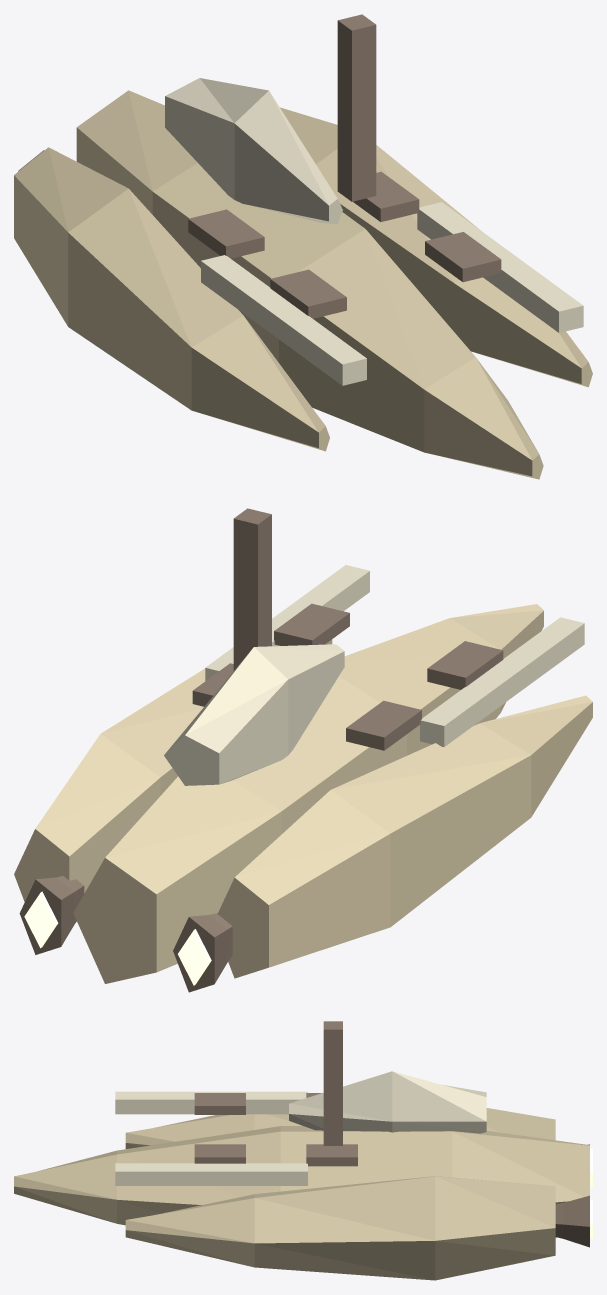
3 views of the same model, one above another, from view 1: azimuth 30°, elevation 25°; view 2: azimuth 150°, elevation 25°; view 3: azimuth 270°, elevation 25° (orthographic). The views are drawn at different scales.
Size of the model in its own units: 6.78 by 6.53 by 14.41.
